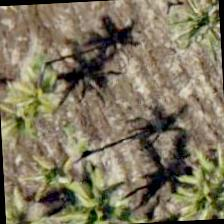Kelapa_Sawit: (12, 125, 108, 220), (0, 43, 79, 138), (51, 167, 146, 223), (166, 0, 222, 76), (167, 153, 223, 221), (3, 170, 65, 223)
